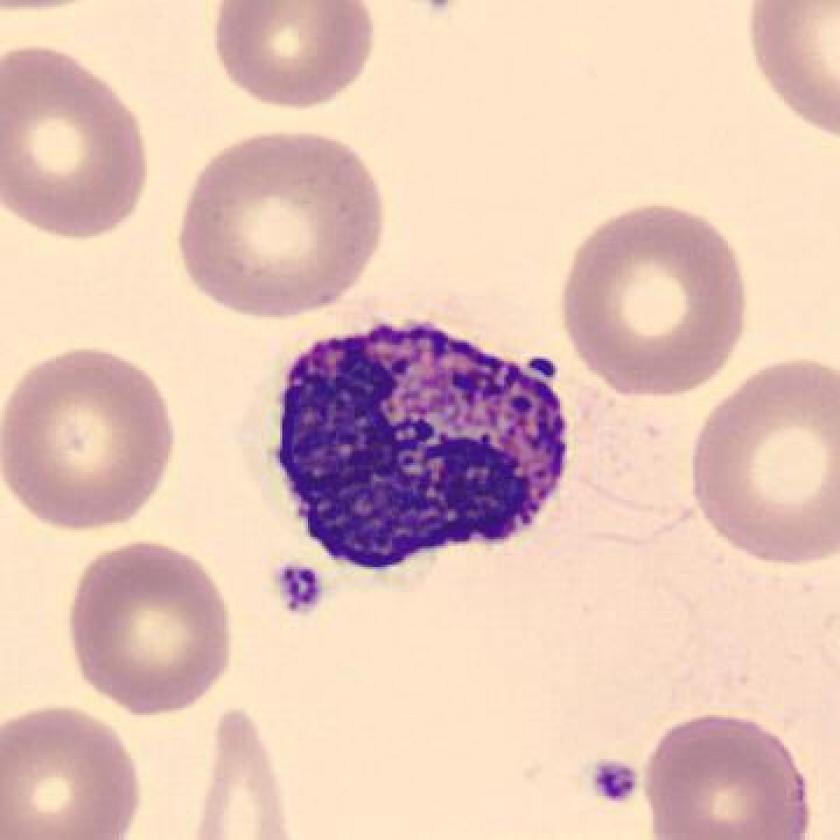basophil: (267, 300, 575, 580)
